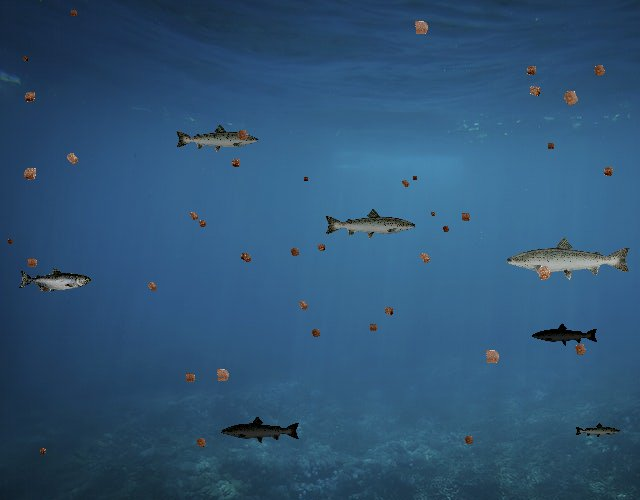Fish: (504, 235, 633, 281), (323, 207, 417, 241), (174, 123, 260, 154), (220, 415, 301, 444), (19, 268, 92, 294), (531, 322, 599, 346), (574, 423, 621, 440)
Pellet: (60, 146, 85, 171), (459, 430, 478, 449), (36, 444, 50, 458), (19, 52, 31, 64)
